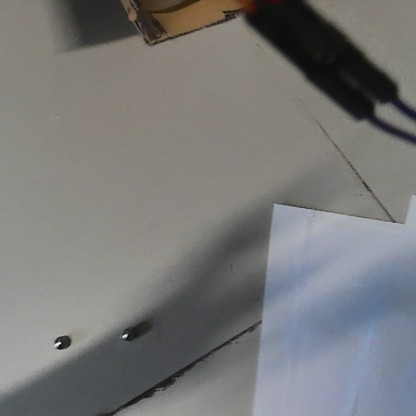ironball: (49, 332, 72, 352), (118, 325, 136, 346)
